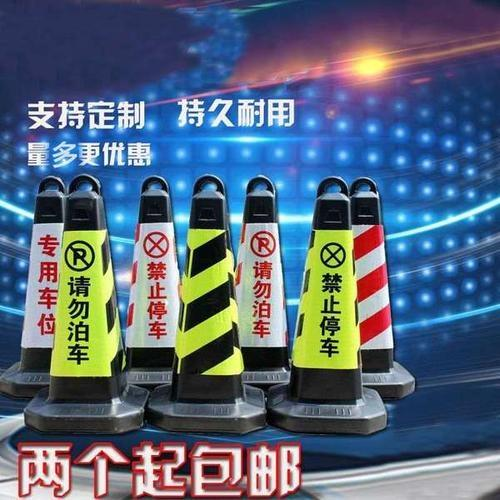cone_barrel: (148, 179, 264, 419), (29, 180, 140, 425), (276, 176, 377, 418), (227, 174, 293, 385), (5, 177, 65, 387), (120, 181, 184, 374), (350, 180, 400, 383)
